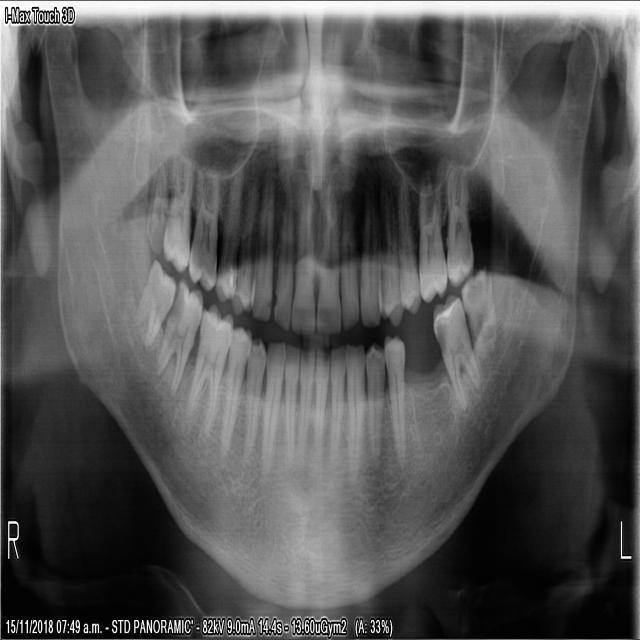LCD: (344, 338, 364, 474)
LCU: (358, 195, 381, 329)
LID: (327, 341, 345, 467), (312, 348, 328, 466)
LIU: (314, 191, 340, 336), (339, 194, 359, 332)
LMD: (429, 291, 480, 412), (459, 266, 495, 361)
LMU: (416, 175, 447, 304), (444, 158, 474, 291)
LPMD: (381, 330, 407, 466), (364, 337, 384, 458)
LPMU: (378, 184, 403, 329), (396, 175, 420, 316)
RCD: (258, 341, 282, 477)
RCU: (251, 181, 273, 323)
RID: (295, 347, 313, 465), (283, 341, 298, 467)
RIU: (290, 184, 314, 337), (272, 180, 292, 332)
RMD: (181, 299, 232, 440), (151, 276, 203, 396), (128, 254, 175, 350)
RMU: (187, 162, 218, 295), (160, 150, 192, 274), (142, 149, 166, 257)
RPMD: (217, 325, 252, 461), (238, 334, 265, 467)
RPMU: (213, 155, 243, 302), (229, 177, 257, 315)
